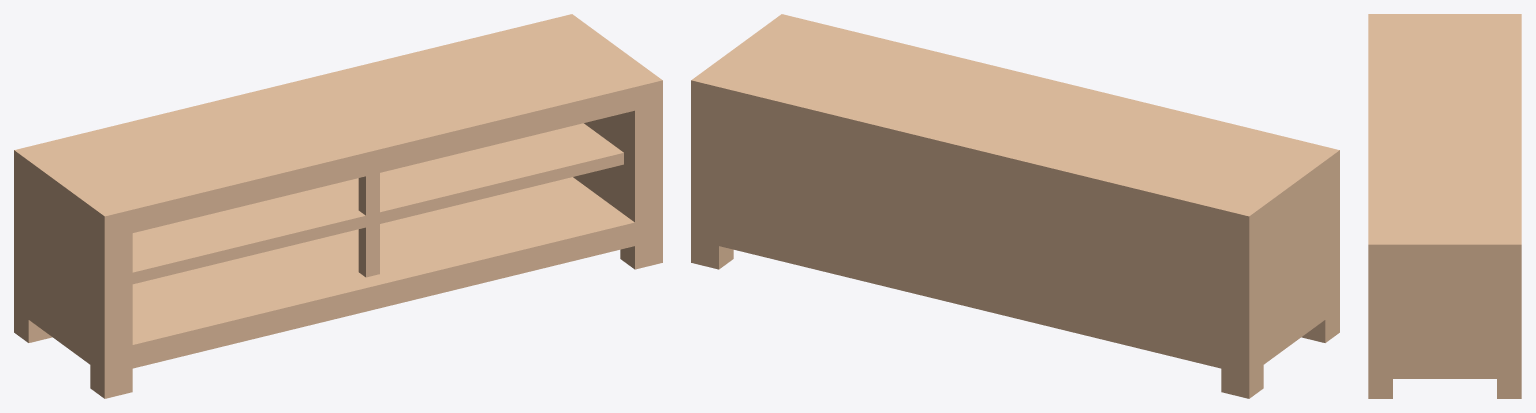
The model's file is tv-console.glb.
3 views of the same model, side by side, from view 1: azimuth 30°, elevation 25°; view 2: azimuth 150°, elevation 25°; view 3: azimuth 270°, elevation 25° (orthographic). The views are drawn at different scales.
Visible parts, largest first — view 1: cabinetTelevision(Clone); view 2: cabinetTelevision(Clone); view 3: cabinetTelevision(Clone).
Part boxes in pixels (x1=…): cabinetTelevision(Clone): x1=14, y1=14, x2=662, y2=398; cabinetTelevision(Clone): x1=691, y1=14, x2=1339, y2=398; cabinetTelevision(Clone): x1=1368, y1=14, x2=1521, y2=398.
Size of the model in its own units: 1.6 by 0.5 by 0.4501.
